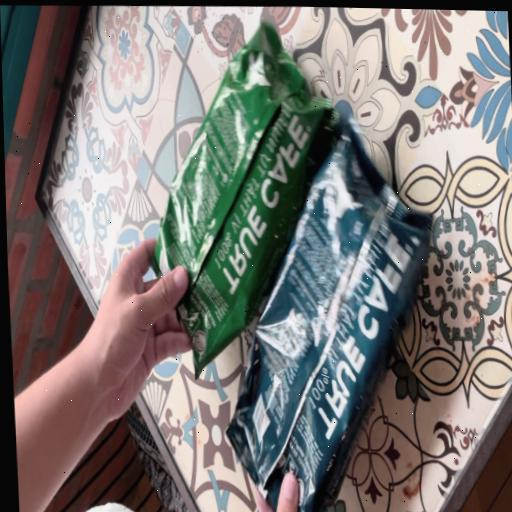cafe_hat: (226, 123, 451, 512)
cafe_xay: (153, 21, 338, 374)
